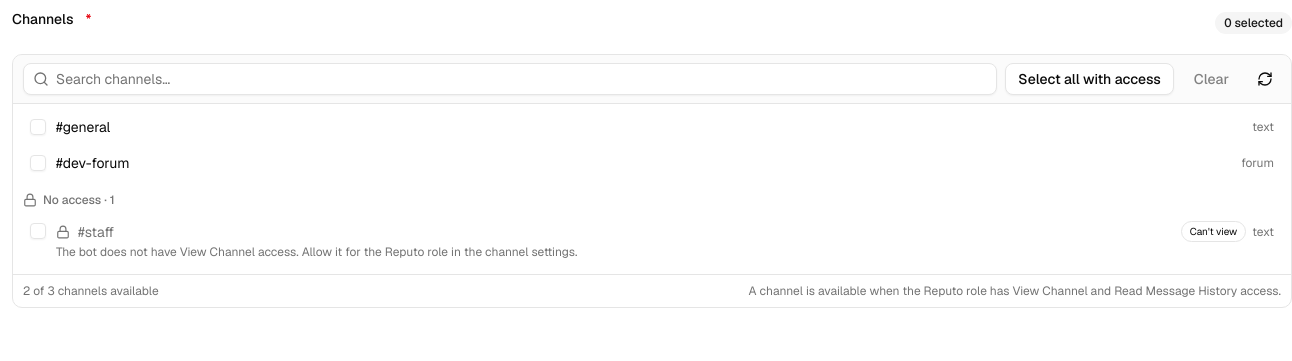
it: CommunityResourcesField › lists every channel with its read verdict and toggles selections
This screenshot has width=1292, height=361.
Expected: the text "2 of 3 channels available" is shown, [23,282,159,298]
Expected: the text "No access · 1" is shown, [23,192,115,208]
Click the checkbox named "#general": (38, 127) [30,119,46,135]
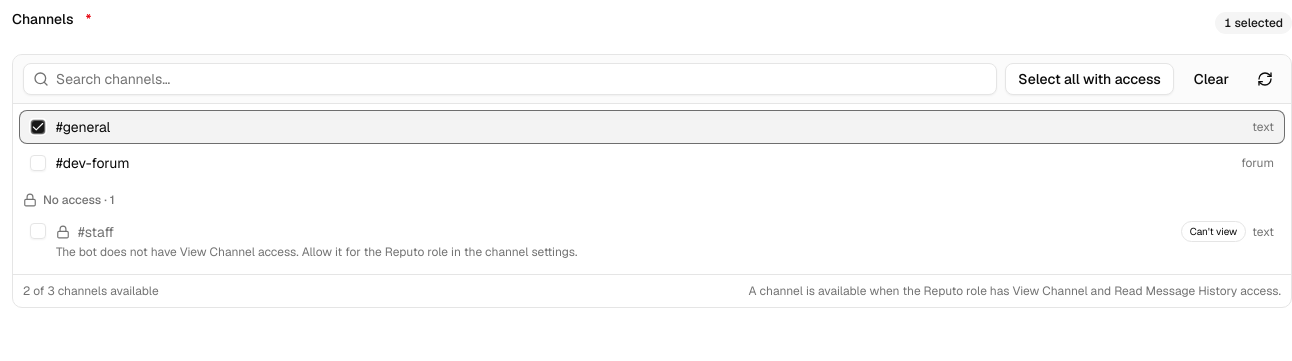
Now the checkbox named "#general" is checked
Now the text "1 selected" is shown, box [1215,12,1291,34]
Click the checkbox named "#general": (38, 127) [30,119,46,135]
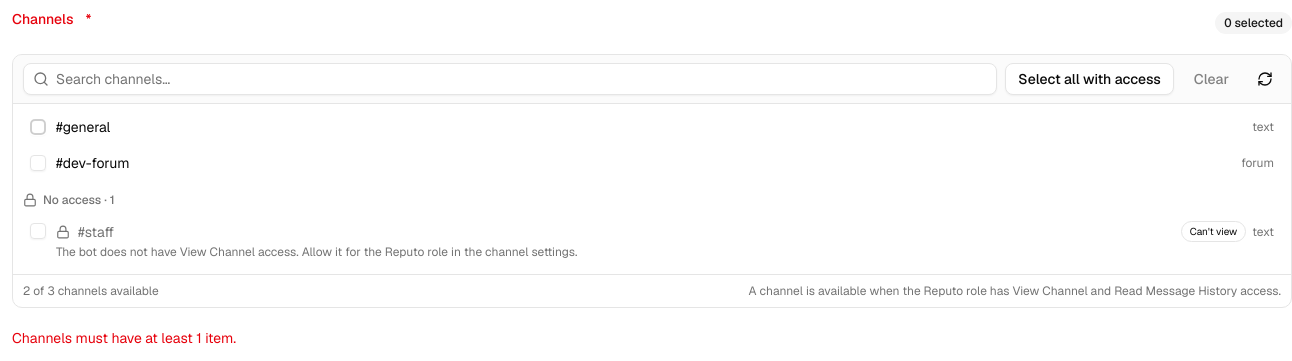
Now the text "0 selected" is shown, box [1215,12,1291,34]
